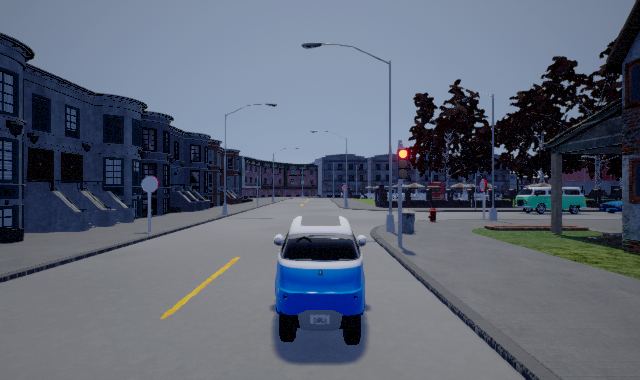traffic_light: (397, 146, 410, 178)
traffic_sign: (478, 177, 487, 192), (341, 184, 348, 191)
vehicle: (274, 215, 367, 345), (515, 184, 585, 214)
